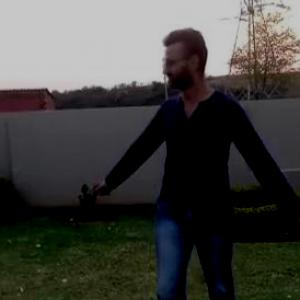land: (51, 16, 300, 299)
